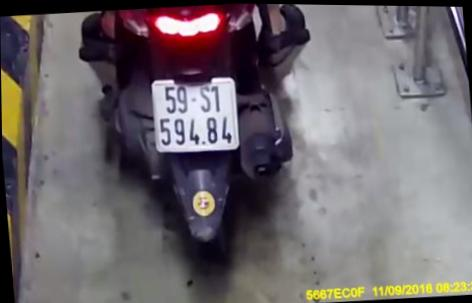LP: (151, 74, 240, 155)
